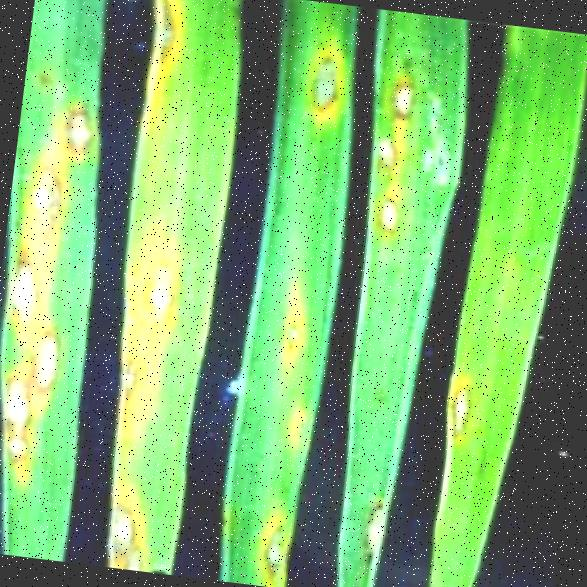Leaf_smut: (126, 233, 218, 338), (220, 491, 318, 587), (343, 450, 402, 585), (9, 152, 91, 246), (252, 265, 320, 378), (142, 0, 225, 73), (0, 359, 50, 473), (286, 38, 352, 122), (432, 363, 493, 451), (0, 240, 59, 328), (373, 56, 438, 132), (44, 88, 112, 158), (93, 491, 152, 569), (10, 321, 76, 390), (266, 395, 318, 460), (362, 119, 417, 176), (362, 174, 409, 234), (108, 354, 162, 404)
